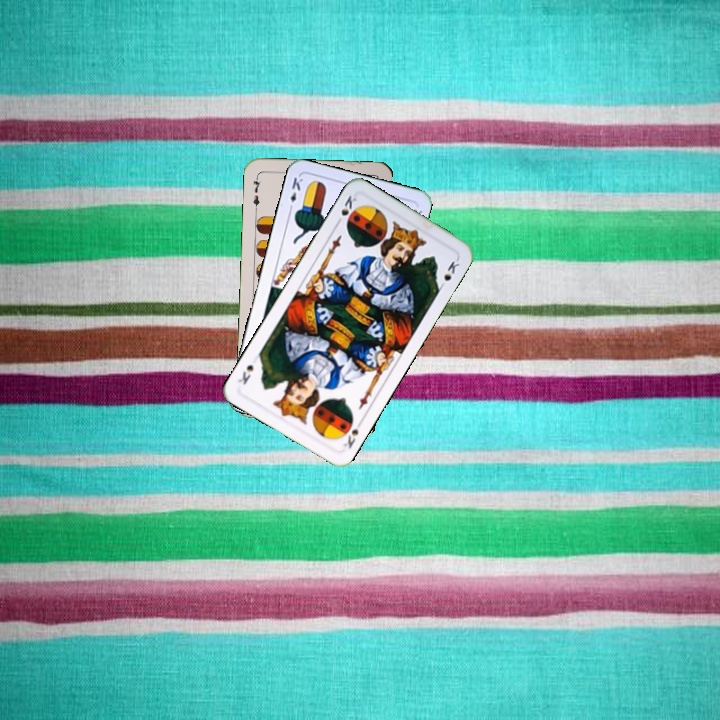E7: (249, 172, 263, 213)
EK: (285, 173, 305, 213)
SK: (332, 191, 359, 228), (339, 416, 365, 451)
